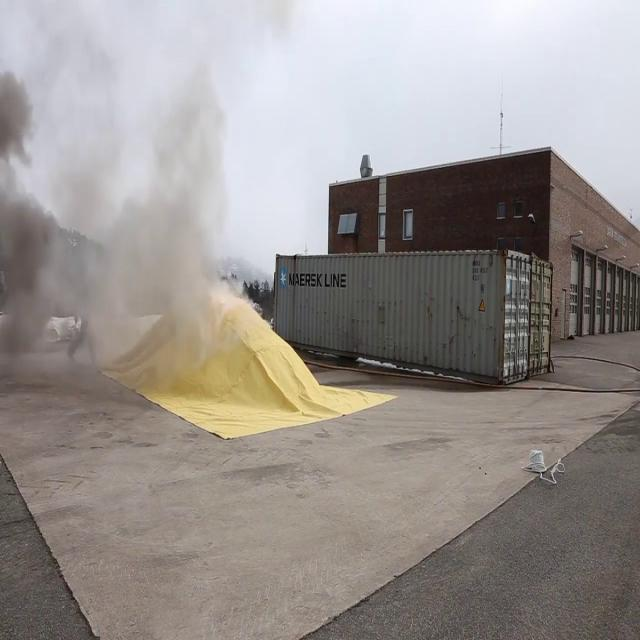Smoke: (0, 2, 248, 390)
